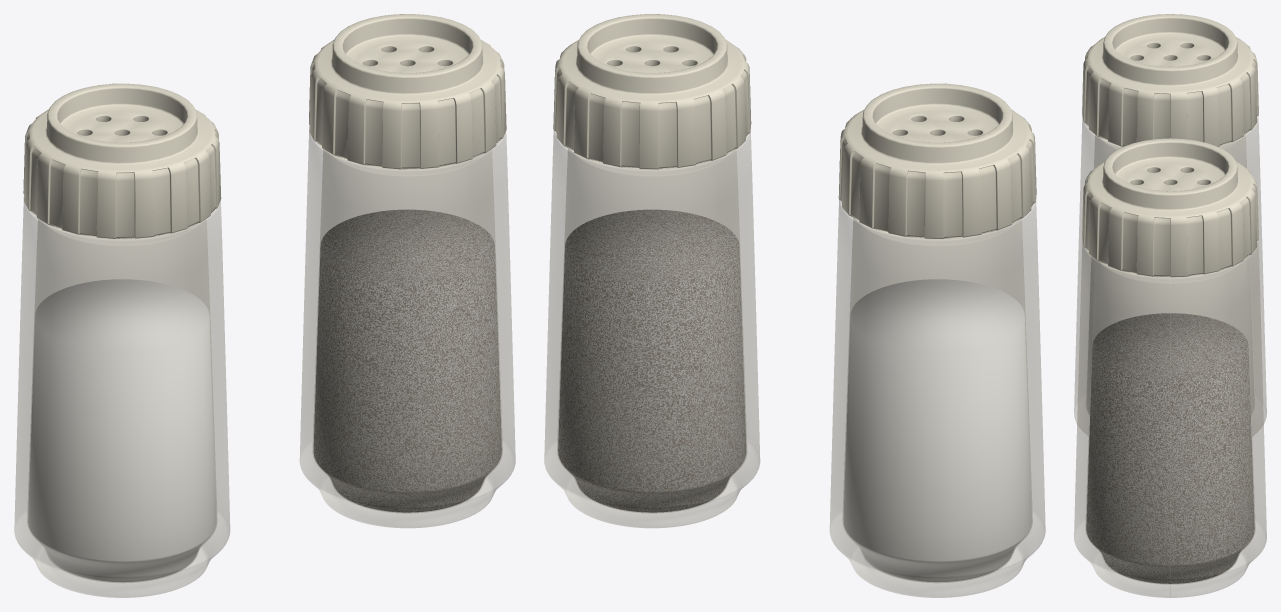
File: salt__pepper_shakers.glb
3 views of the same model, side by side, from view 1: azimuth 30°, elevation 25°; view 2: azimuth 150°, elevation 25°; view 3: azimuth 270°, elevation 25° (orthographic). The views are drawn at different scales.
Parts seen in each view (by area): view 1: Pepper Shaker, Pepper Shaker_0, Pepper, Salt, Pepper Shaker Cap_0, Pepper Shaker Cap; view 2: Pepper Shaker, Pepper Shaker_0, Pepper, Salt, Pepper Shaker Cap, Pepper Shaker Cap_0; view 3: Pepper Shaker, Pepper, Pepper Shaker Cap, Pepper Shaker Cap_0, Salt, Pepper Shaker_0.
Part boxes in pixels (left/top/right/bottom): Pepper Shaker: left=299, top=126, right=515, bottom=528; Pepper Shaker_0: left=14, top=196, right=230, bottom=597; Pepper: left=313, top=209, right=501, bottom=512; Salt: left=28, top=279, right=216, bottom=582; Pepper Shaker Cap_0: left=23, top=83, right=221, bottom=238; Pepper Shaker Cap: left=309, top=14, right=506, bottom=169; Pepper Shaker: left=544, top=129, right=760, bottom=528; Pepper Shaker_0: left=829, top=200, right=1045, bottom=597; Pepper: left=558, top=209, right=746, bottom=512; Salt: left=843, top=279, right=1031, bottom=582; Pepper Shaker Cap: left=553, top=14, right=751, bottom=169; Pepper Shaker Cap_0: left=838, top=83, right=1036, bottom=238; Pepper Shaker: left=1074, top=240, right=1266, bottom=597; Pepper: left=1086, top=313, right=1254, bottom=583; Pepper Shaker Cap: left=1082, top=138, right=1258, bottom=277; Pepper Shaker Cap_0: left=1082, top=14, right=1258, bottom=146; Salt: left=1086, top=256, right=1254, bottom=414; Pepper Shaker_0: left=1074, top=116, right=1266, bottom=435.
Bounding box in the file's own units: 1.25 × 1.13 × 0.4942.
